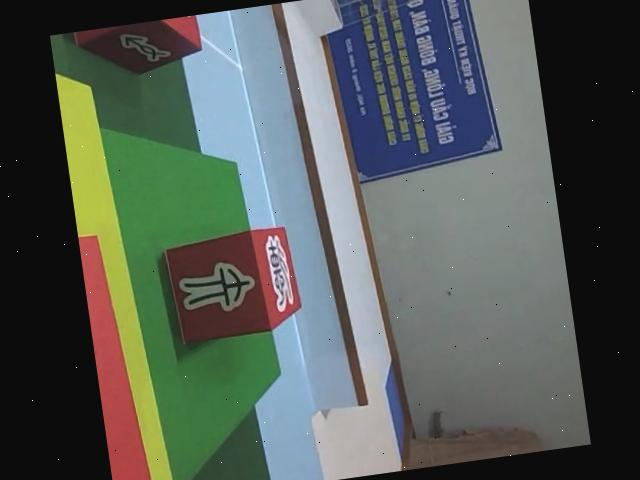R2 Fake: (158, 226, 304, 346)
R2 Real: (64, 15, 206, 85)
